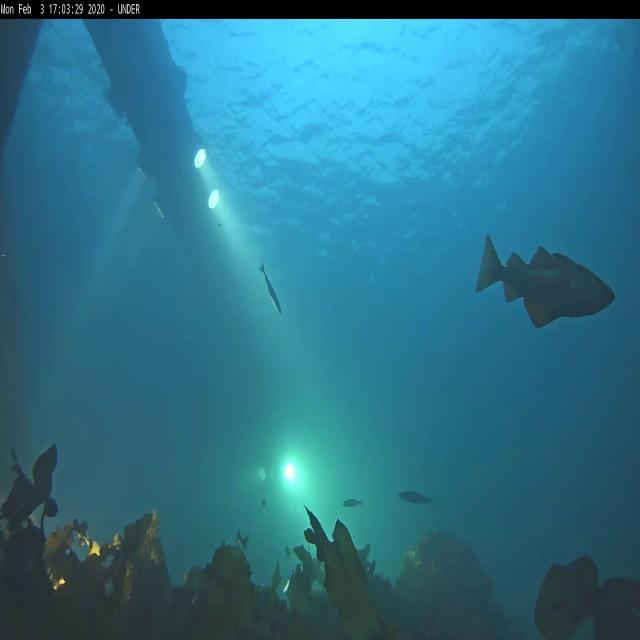fish: (476, 231, 616, 329), (258, 259, 282, 316), (396, 488, 434, 506), (234, 530, 250, 552), (341, 499, 364, 507), (284, 544, 292, 558)
